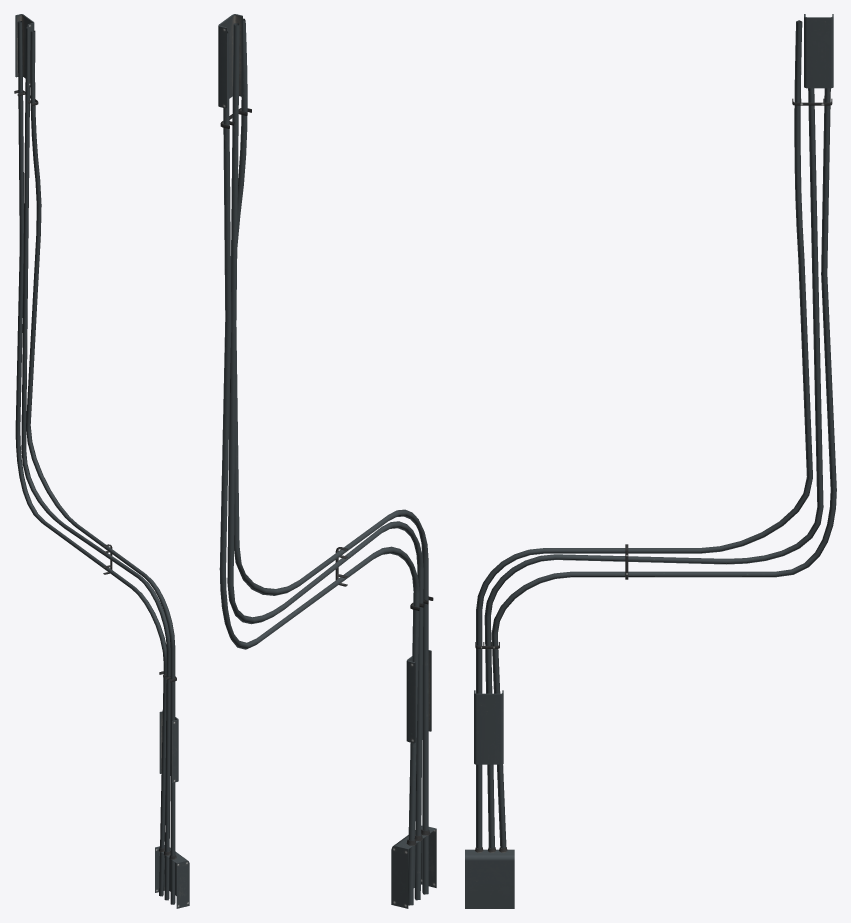
Rendered from SM_WallWire_05.FBX.
The picture shows the model from 3 angles, left to right: view 1: azimuth 30°, elevation 25°; view 2: azimuth 150°, elevation 25°; view 3: azimuth 270°, elevation 25°; orthographic projection. The views are drawn at different scales.
Parts seen in each view (by area): view 1: SM_WallWire_05_LOD0; view 2: SM_WallWire_05_LOD0; view 3: SM_WallWire_05_LOD0.
Part boxes in pixels (x1,y1,x2,y2): SM_WallWire_05_LOD0: (14, 14, 189, 908); SM_WallWire_05_LOD0: (218, 14, 436, 908); SM_WallWire_05_LOD0: (465, 14, 836, 908).
Bounding box in the file's own units: 12.02 × 228 × 600.
